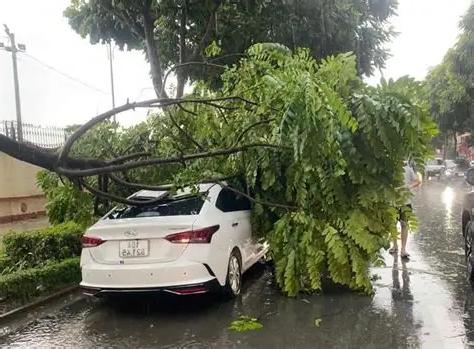ROAD_OBSTACLE: (0, 20, 404, 290)
